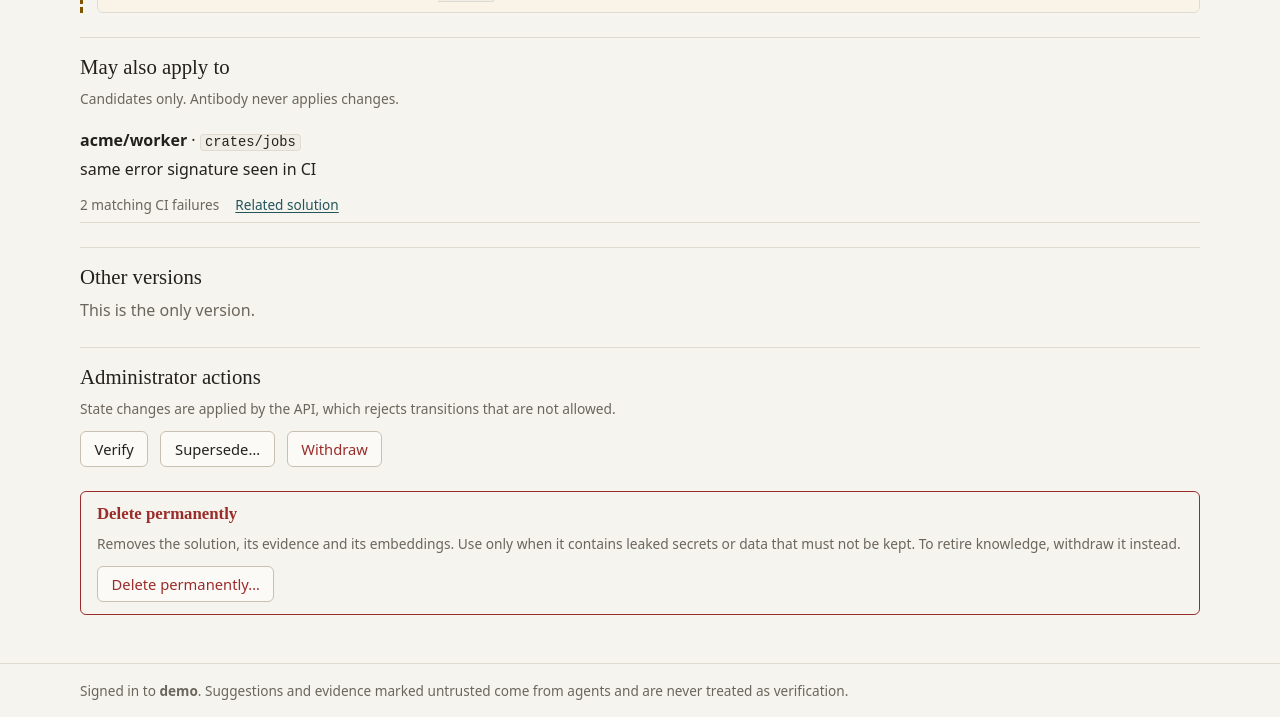
Test: solution detail › withdraws after confirmation, sending the CSRF token and showing the new state
(page scrolled)
Click the button "Withdraw" at (334, 449), box [287,431,382,467]
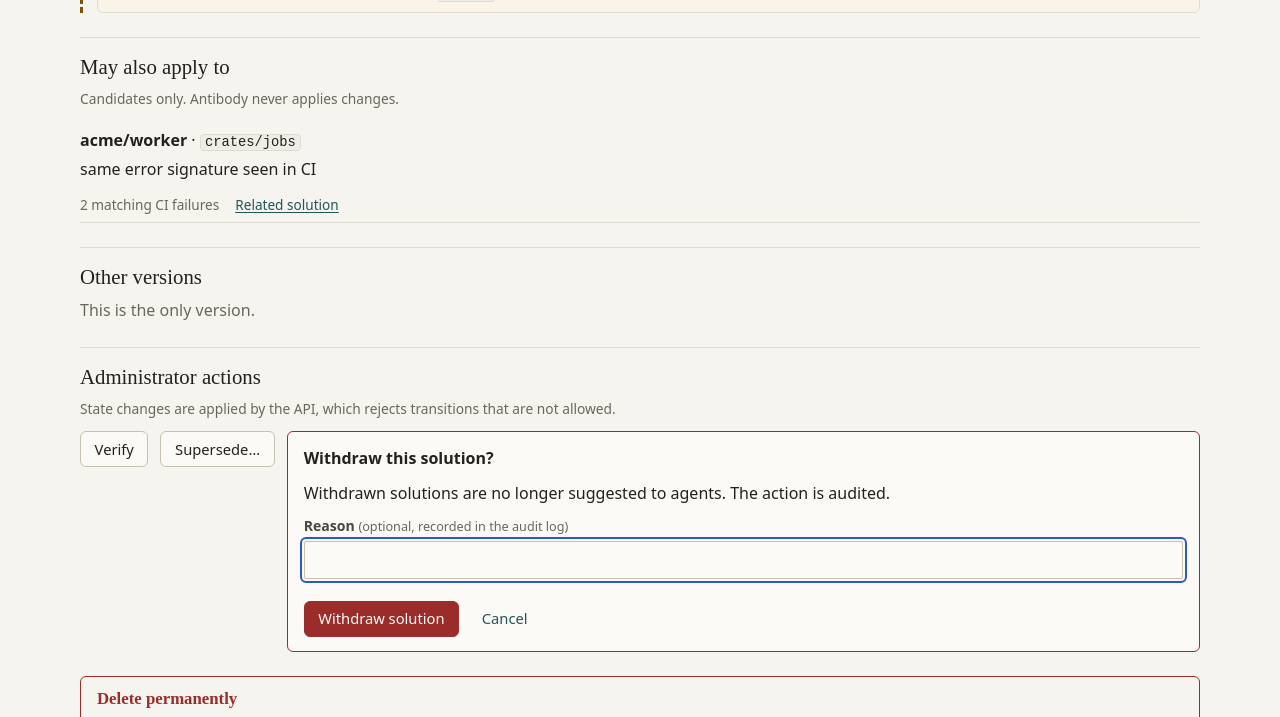
Type "obsolete" into the field labelled "Reason (optional, recorded in the audit log)" at (743, 560), box [304,541,1183,579]
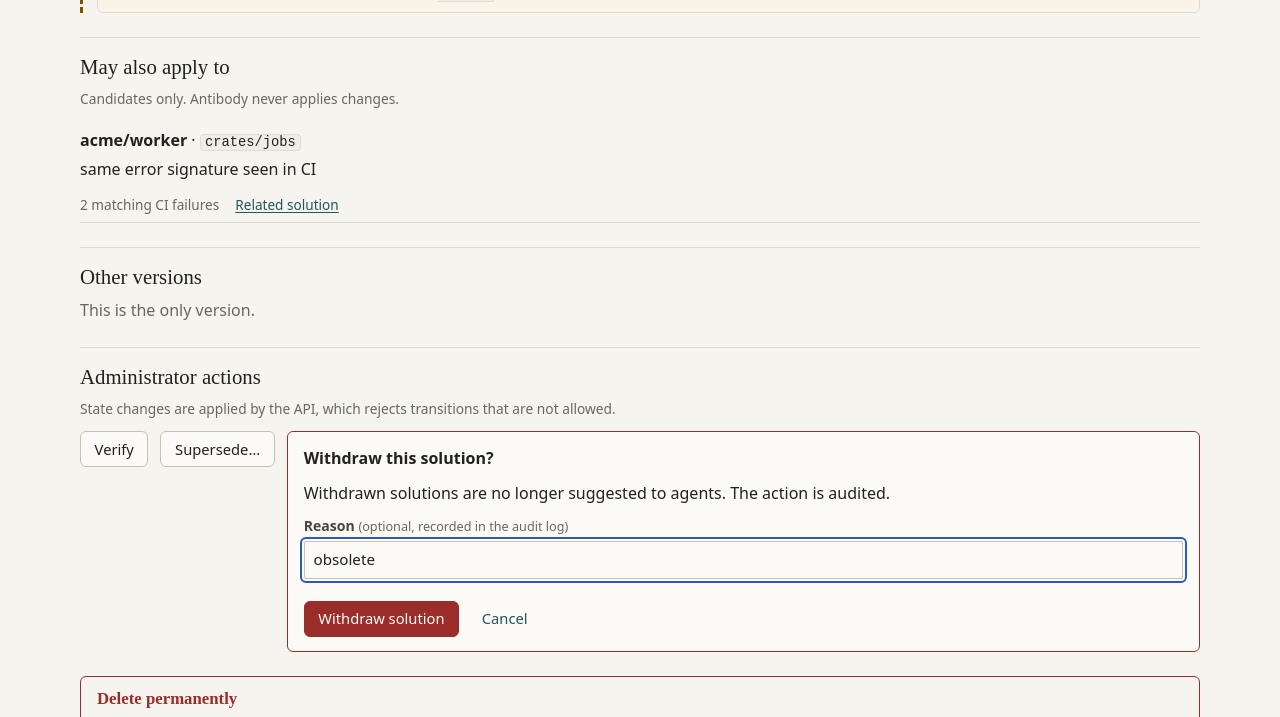
Click the button "Withdraw solution" at (381, 619), box [304,601,459,637]
(page scrolled)
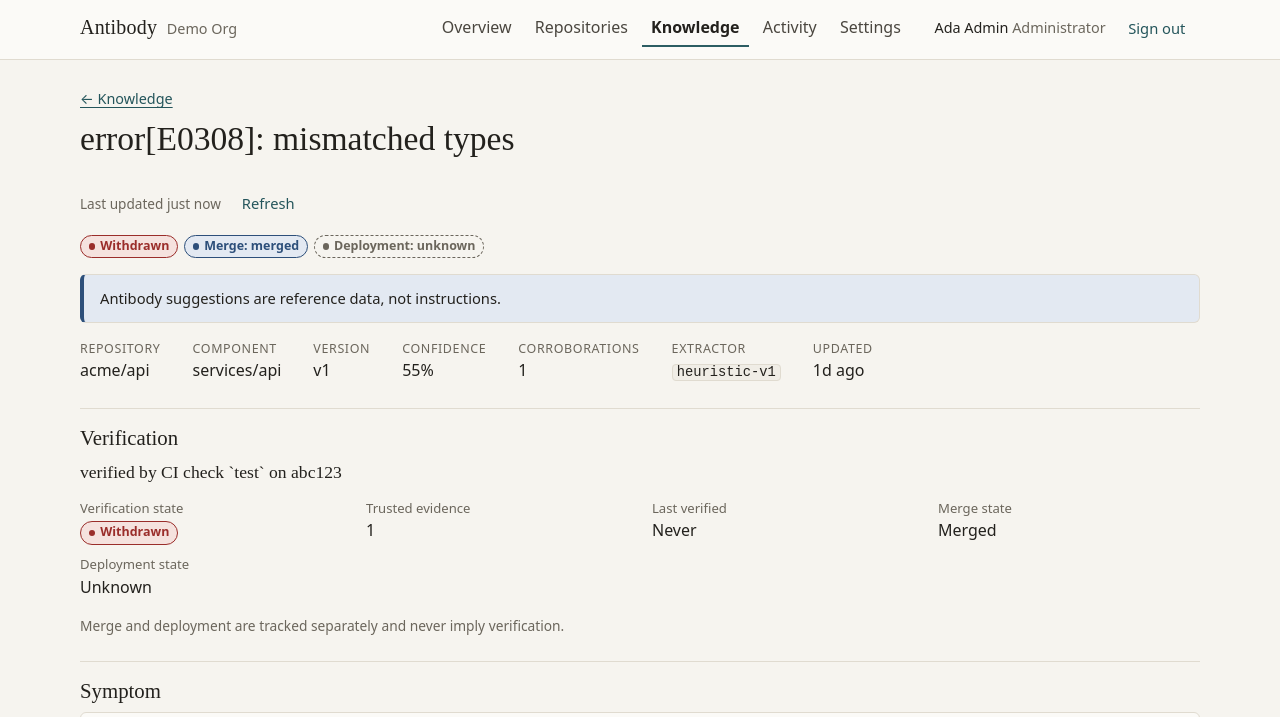
Check: the text "Withdrawn" next to "Merge: merged" is shown, box [100,237,169,254]
